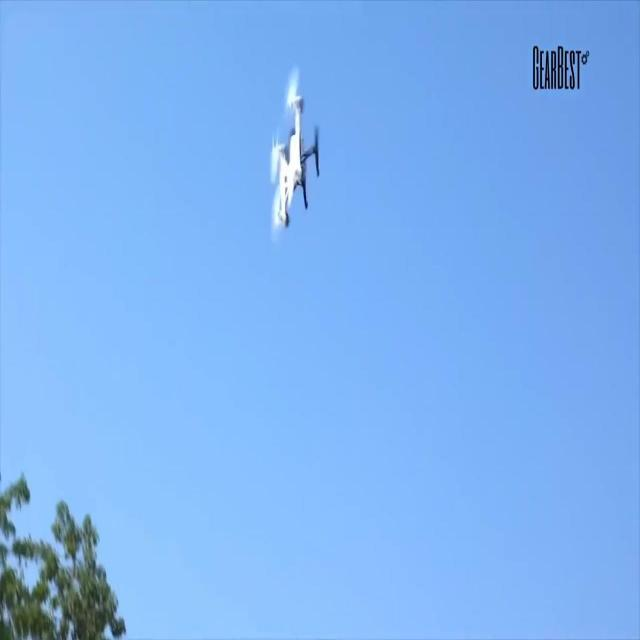UAV: (270, 68, 320, 228)
